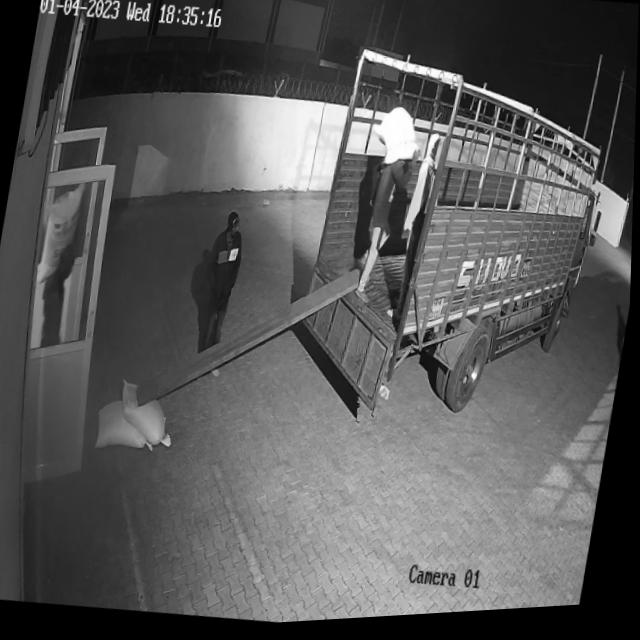sack: (37, 180, 87, 288), (114, 378, 183, 452), (94, 396, 165, 457), (370, 109, 423, 174)
